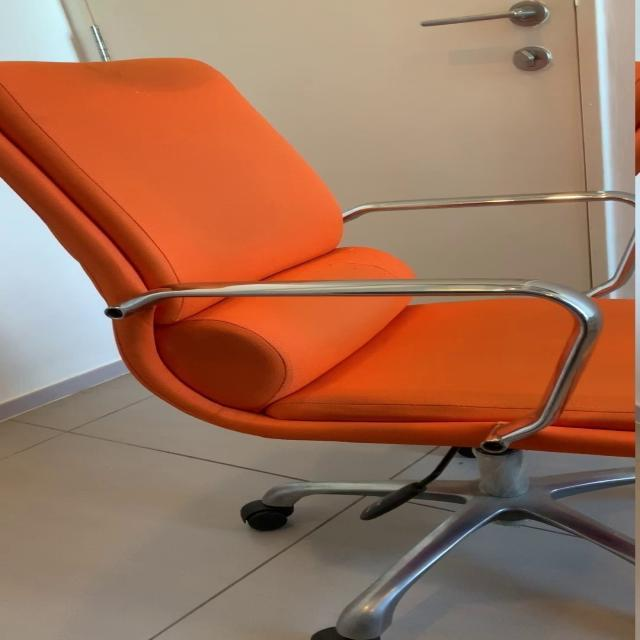chair: (2, 55, 640, 638)
